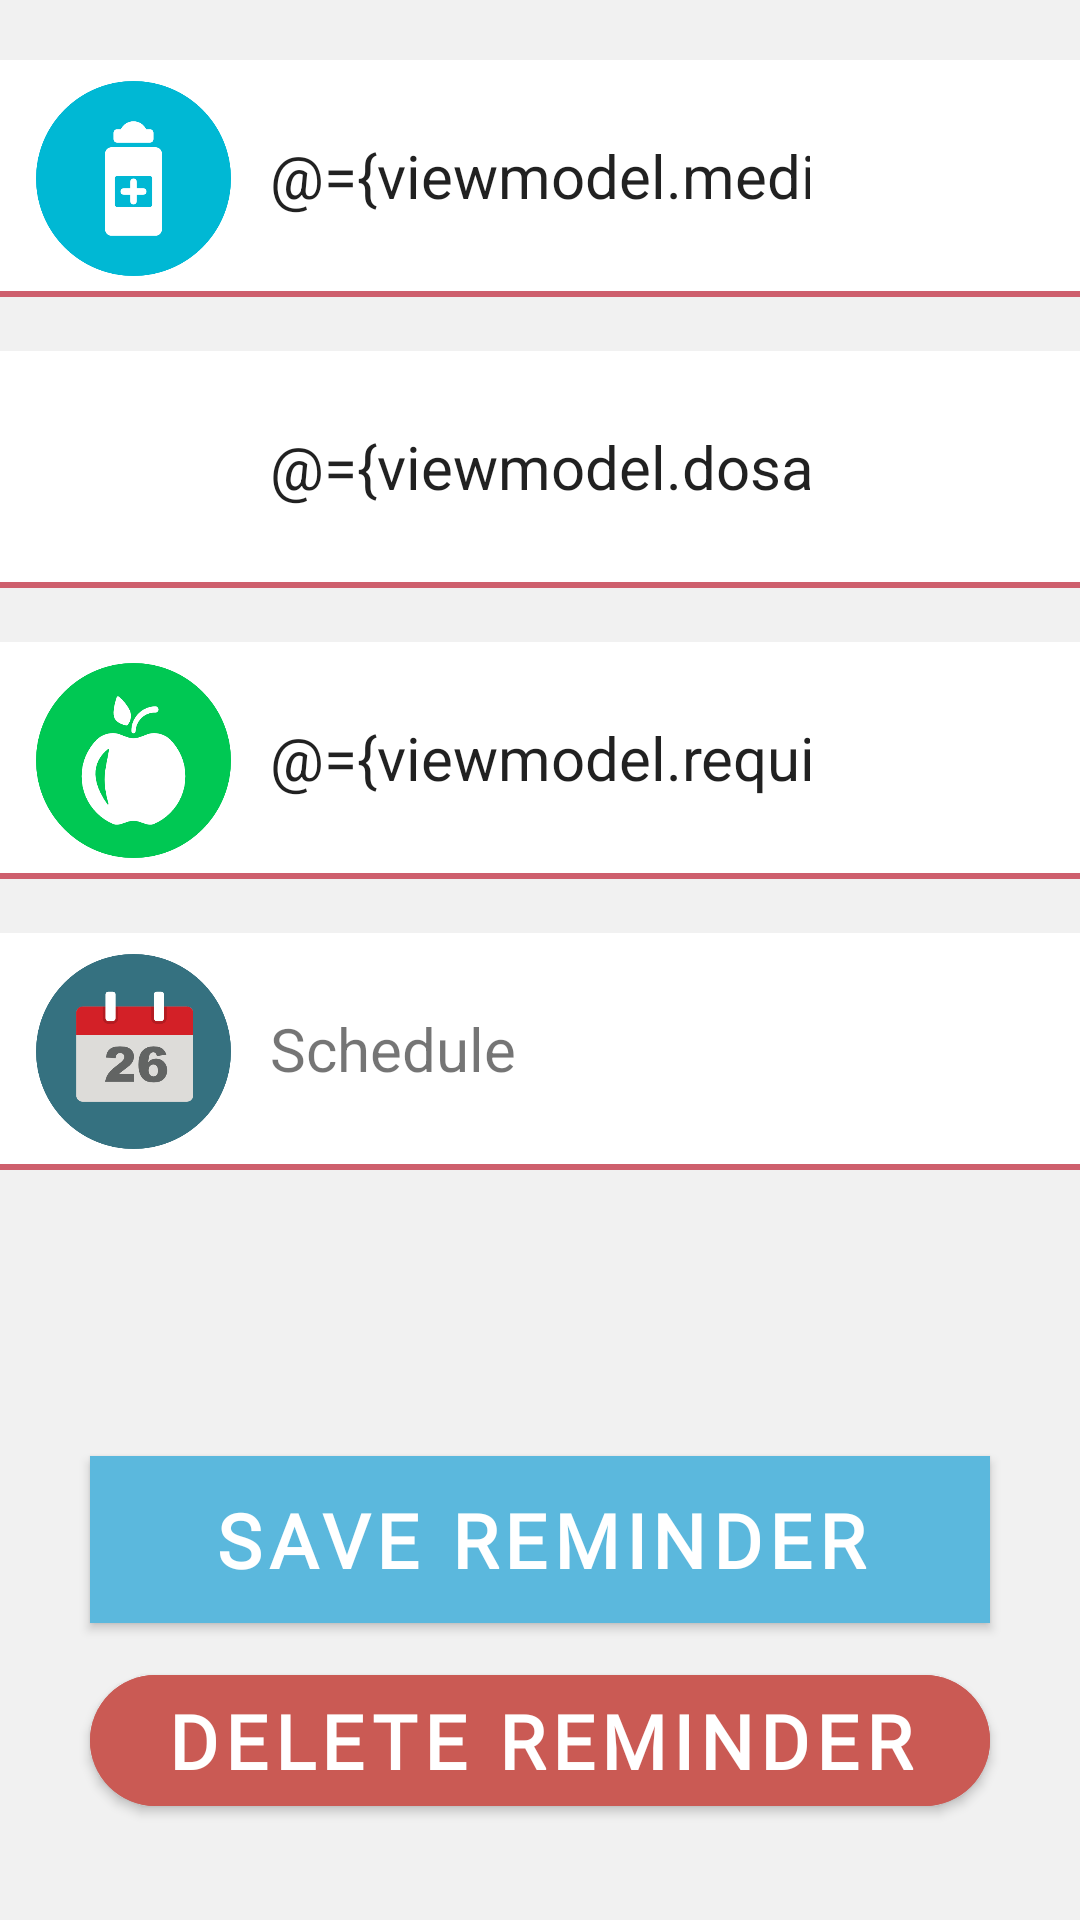

Icon click points for this 1080 x 1920 phone screenshot, format (x,y):
Calendar image: (133,1051)
Medicine box and pill: (133,178)
